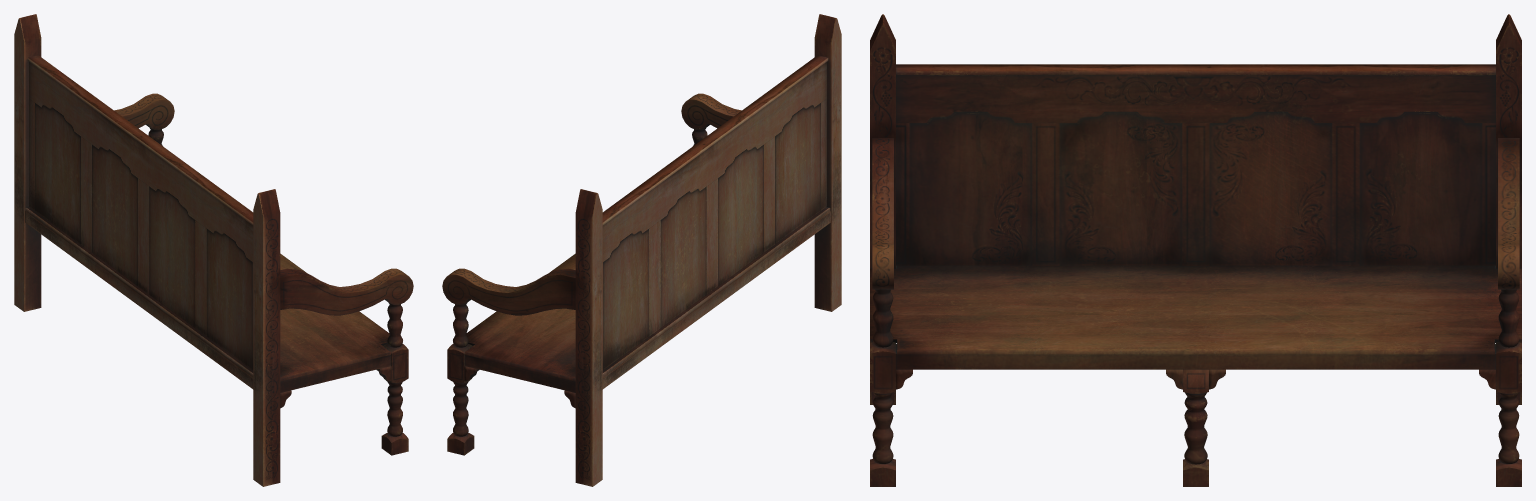
3 views of the same model, side by side, from view 1: azimuth 30°, elevation 25°; view 2: azimuth 150°, elevation 25°; view 3: azimuth 270°, elevation 25° (orthographic). The views are drawn at different scales.
Visible parts, largest first — view 1: SM_bench; view 2: SM_bench; view 3: SM_bench.
Boxes of the visible parts, <box> form: SM_bench: <box>14,14,413,486</box>; SM_bench: <box>442,14,841,486</box>; SM_bench: <box>870,14,1521,486</box>.
Bounding box in the file's own units: 0.7297 × 1.34 × 2.08.
Materials: 1 (1 with a texture image).
